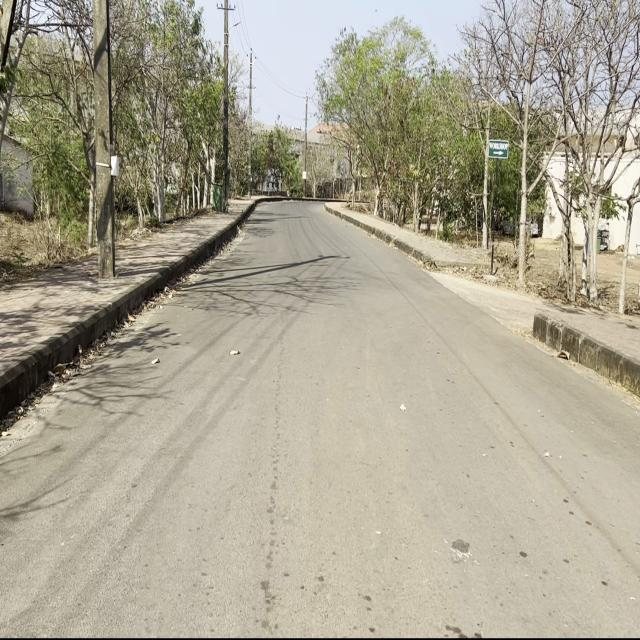Road: (3, 201, 638, 634)
